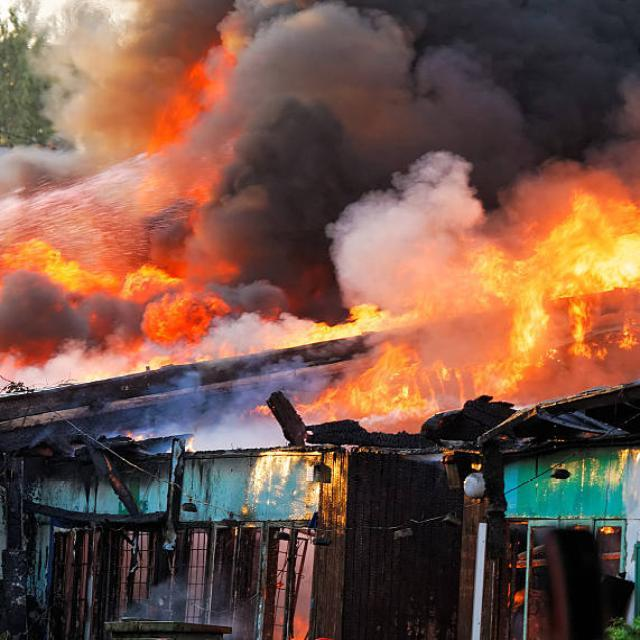Fire: (12, 209, 270, 357), (479, 207, 640, 389), (307, 303, 471, 426)
Smoke: (237, 0, 640, 311), (40, 0, 250, 258)
